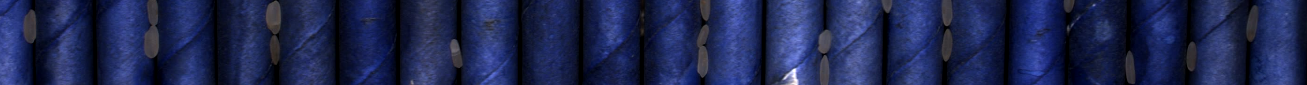broken_grain: (813, 29, 833, 56), (939, 1, 954, 25), (698, 1, 713, 23)
complete_grain: (140, 25, 161, 61), (20, 8, 40, 44), (695, 44, 711, 80), (1123, 50, 1139, 85), (1184, 38, 1199, 73), (940, 27, 954, 64), (817, 53, 832, 85), (695, 22, 710, 49), (146, 1, 159, 26)
milky_grain: (265, 1, 288, 33), (447, 34, 465, 72)
yellow_grain: (1243, 4, 1260, 42), (267, 34, 283, 66)
